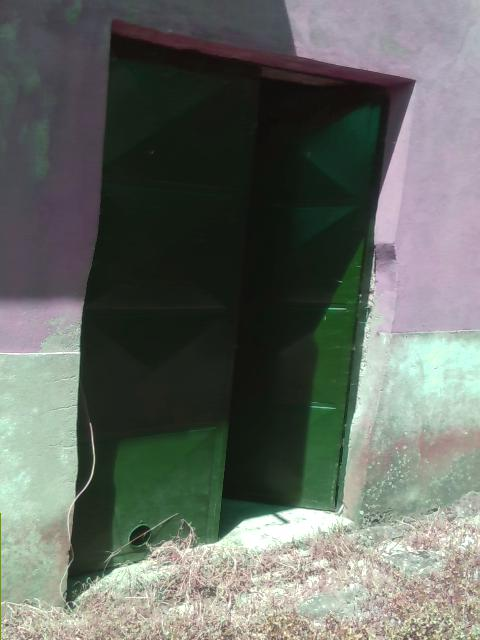semi_door: (63, 24, 413, 598)
